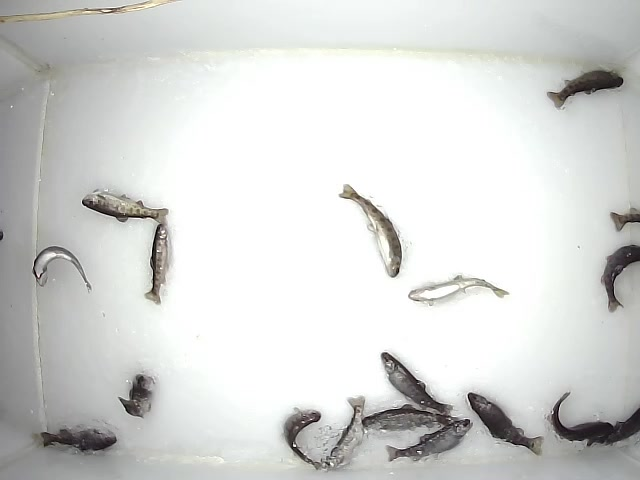fish: (336, 182, 403, 280), (378, 351, 456, 417), (467, 391, 544, 457), (385, 416, 472, 465), (406, 272, 510, 308), (545, 390, 615, 443), (81, 187, 171, 225), (323, 394, 368, 469), (544, 69, 623, 111), (31, 243, 93, 296), (361, 402, 454, 436), (281, 406, 325, 470), (141, 222, 171, 306), (40, 425, 117, 454), (118, 370, 158, 419)
